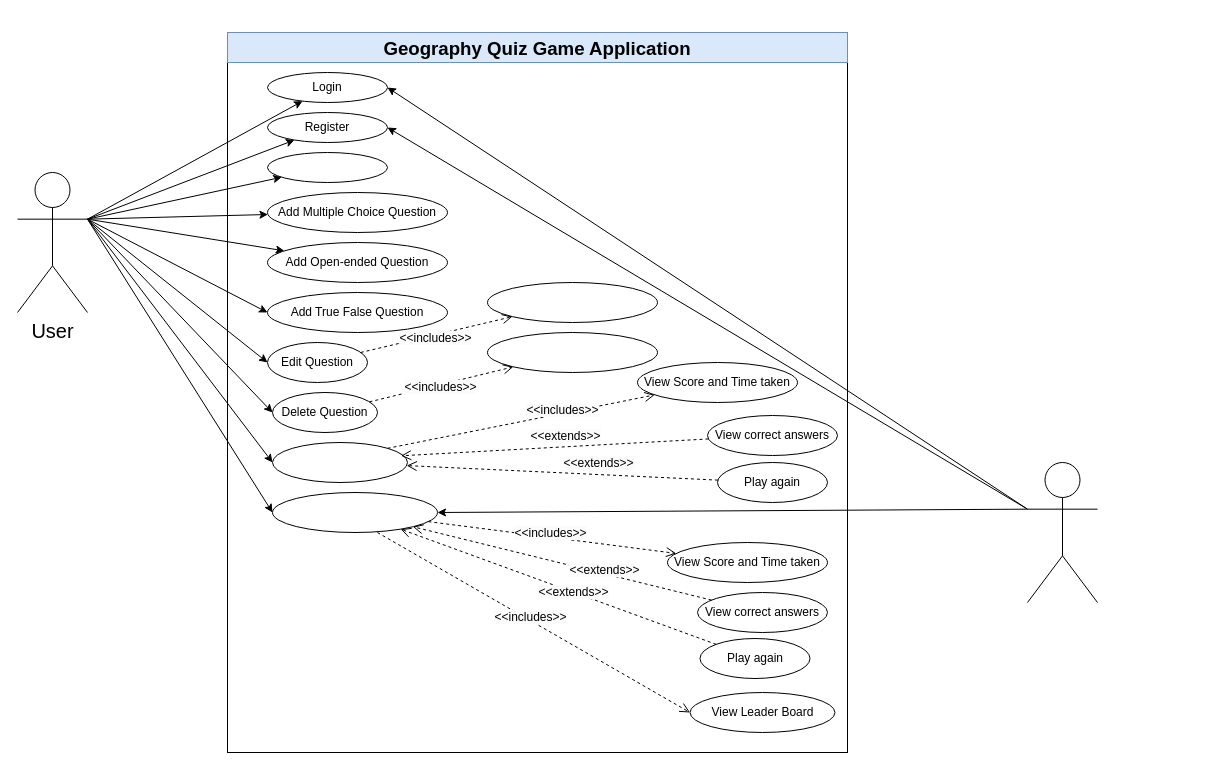
Some shapes in this 1220 by 770 pixel diagram are drawn without their labels. The centre of each missing label's shape, as x and y in pixels:
Database Management System: point (1062, 532)
Log out: point (327, 167)
Play Default Game: point (355, 512)
Play Game: point (340, 462)
Select question for deleting: point (572, 352)
Select question for editing: point (572, 302)
